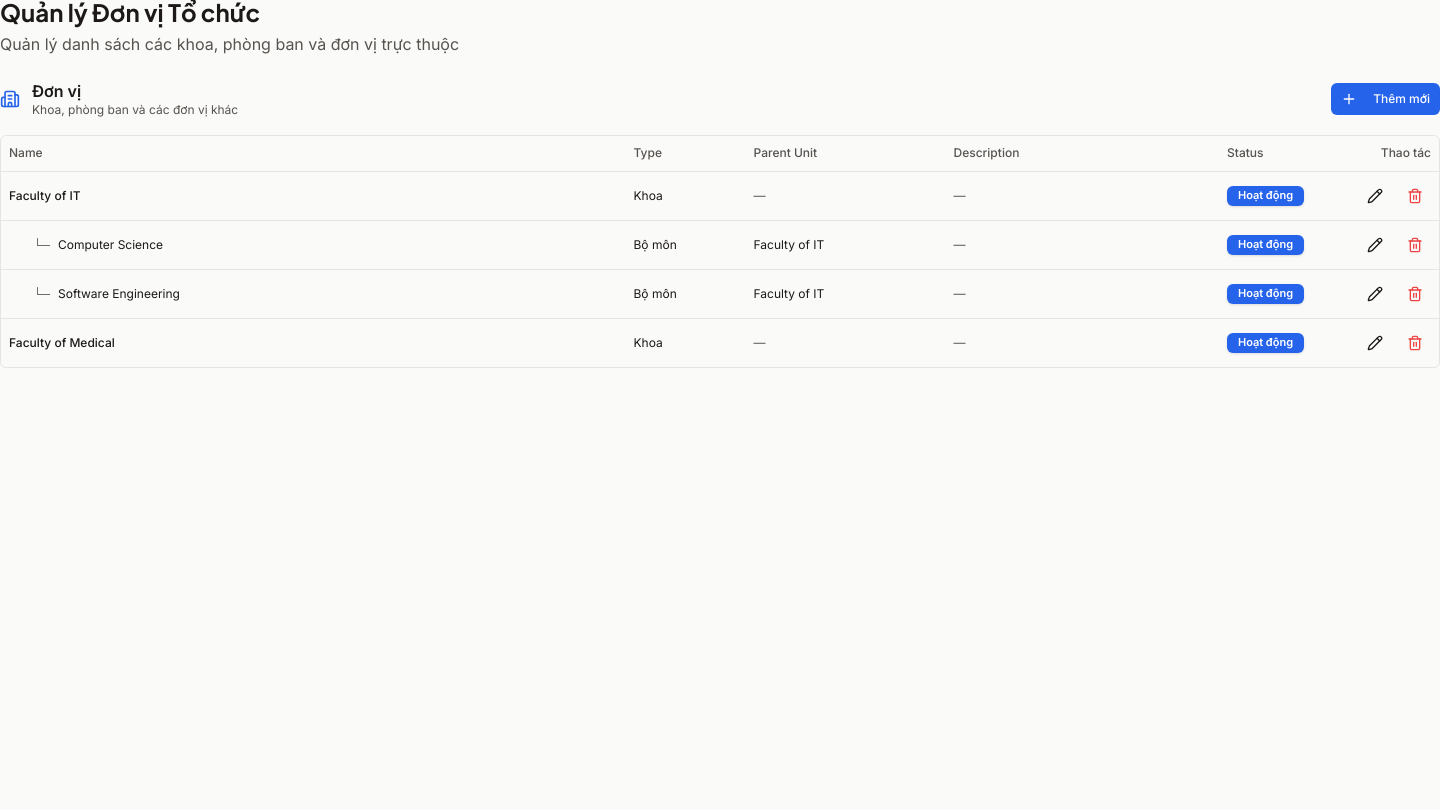
Test: OrganizationUnitPanel › should populate form data correctly when editing a child item
Click the button named "Chỉnh sửa" in the row of "Software Engineering" at (1375, 294), box [1359,278,1391,310]
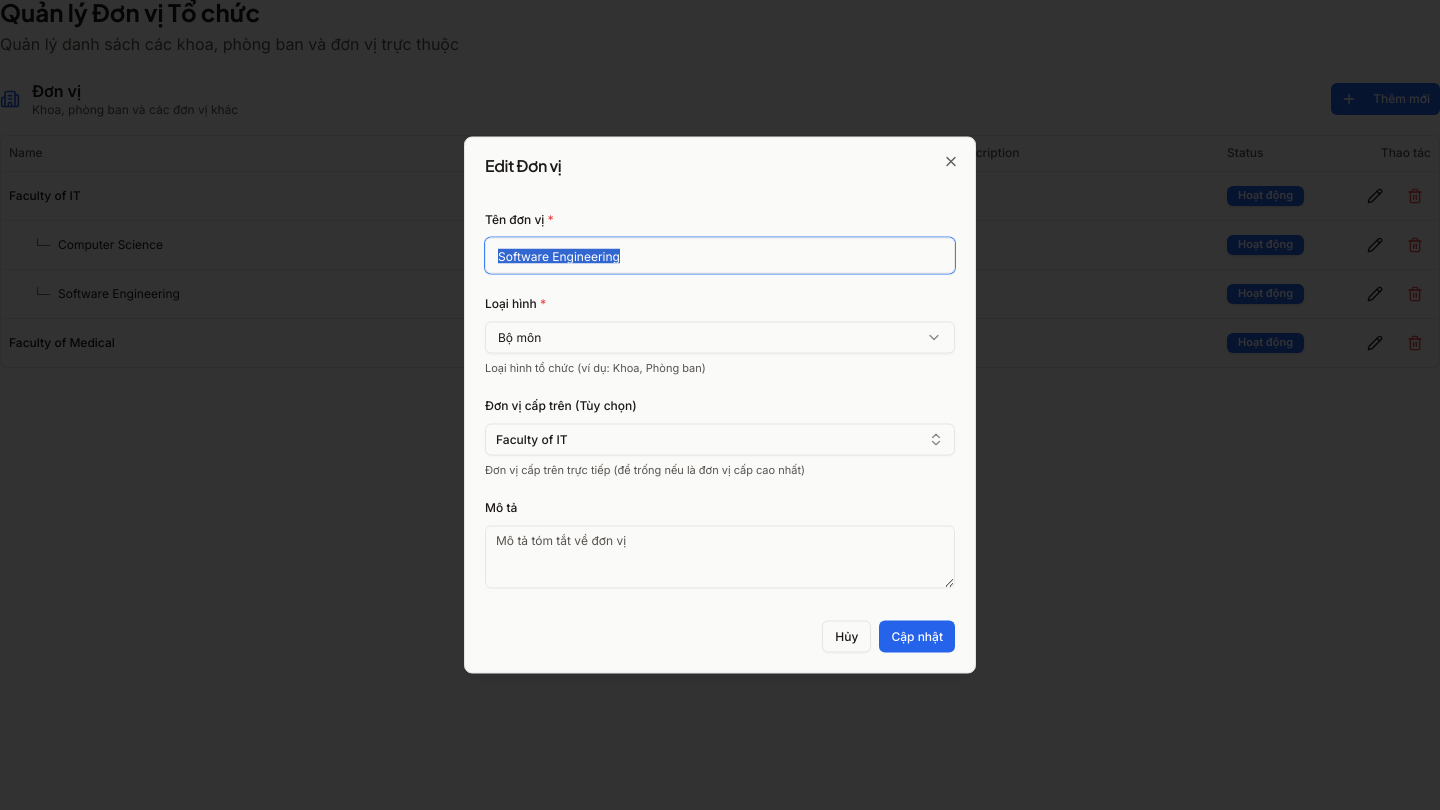
Check: the dialog is shown, box [464,136,976,674]
Check: the field labelled "Tên đơn vị *" holds "Software Engineering", box [485,238,955,274]
Check: the text "Bộ môn" is shown, box [498,329,541,346]
